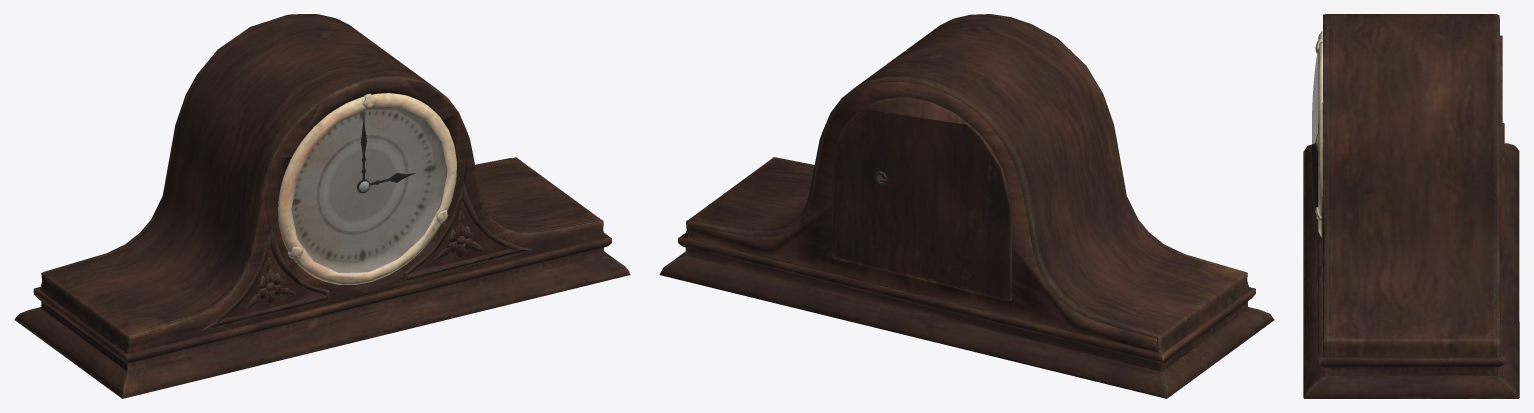
The model's file is mantel_clock_01.glb.
The picture shows the model from 3 angles, left to right: view 1: azimuth 30°, elevation 25°; view 2: azimuth 150°, elevation 25°; view 3: azimuth 270°, elevation 25°; orthographic projection.
Parts seen in each view (by area): view 1: mantel_clock_01, mantel_clock_01_glass; view 2: mantel_clock_01; view 3: mantel_clock_01, mantel_clock_01_glass.
Boxes of the visible parts, box(x1,y1,x2,y2) form: mantel_clock_01: box(14, 14, 630, 398); mantel_clock_01_glass: box(291, 108, 446, 272); mantel_clock_01: box(659, 14, 1274, 398); mantel_clock_01: box(1303, 14, 1519, 398); mantel_clock_01_glass: box(1312, 53, 1318, 206).
Bounding box in the file's own units: 0.3422 × 0.1605 × 0.1262.
Materials: 2 (2 with a texture image).
